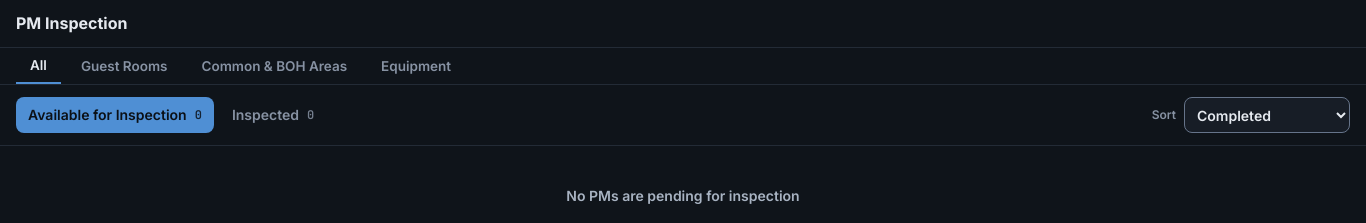
Scenario: InspectionPage › has an empty state naming the kind
Step 1. Click the tab "Guest Rooms" → [124, 66], box [67, 48, 182, 84]
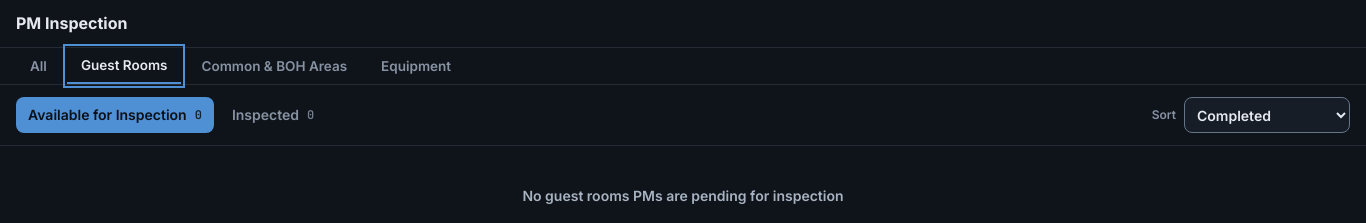
Expected: the text "No guest rooms PMs are pending for inspection" is shown, [522, 186, 844, 206]
